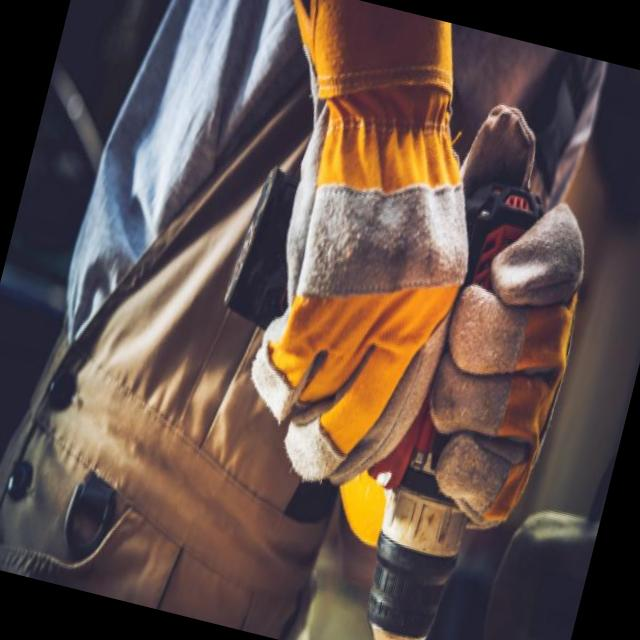Gloves: (172, 0, 521, 508), (388, 133, 640, 554)
